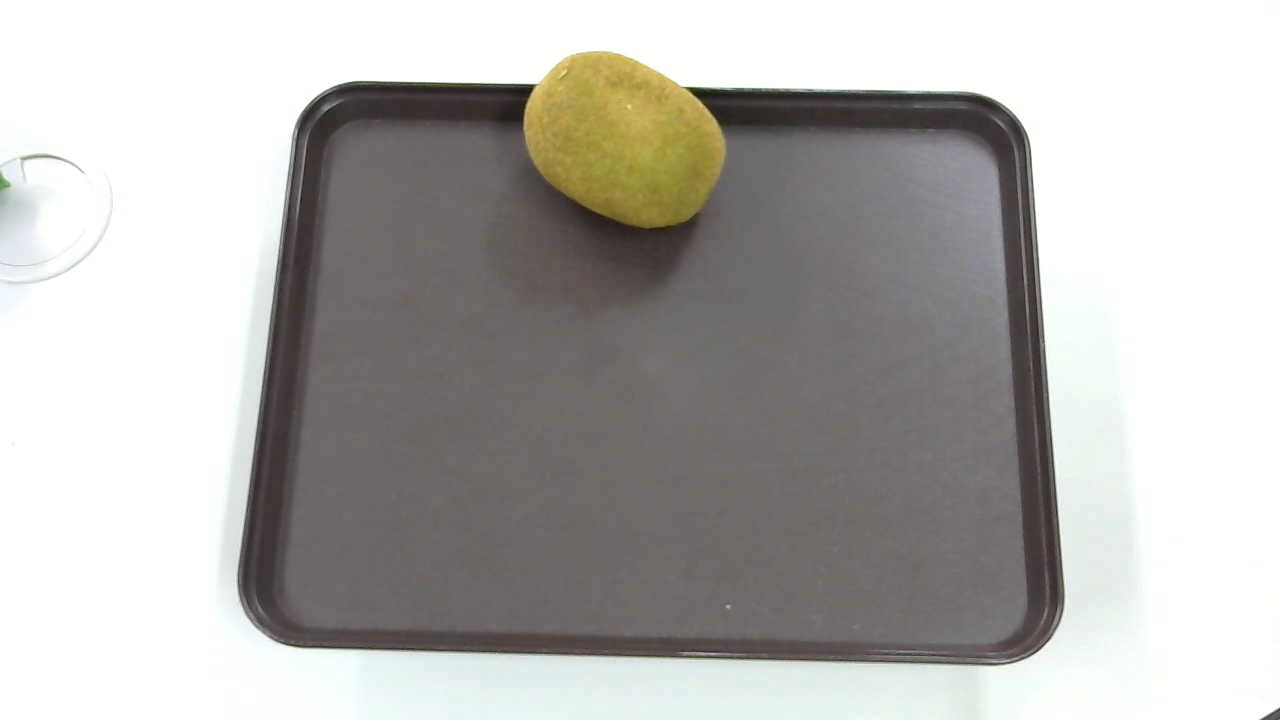mangosteen: (512, 44, 737, 241)
